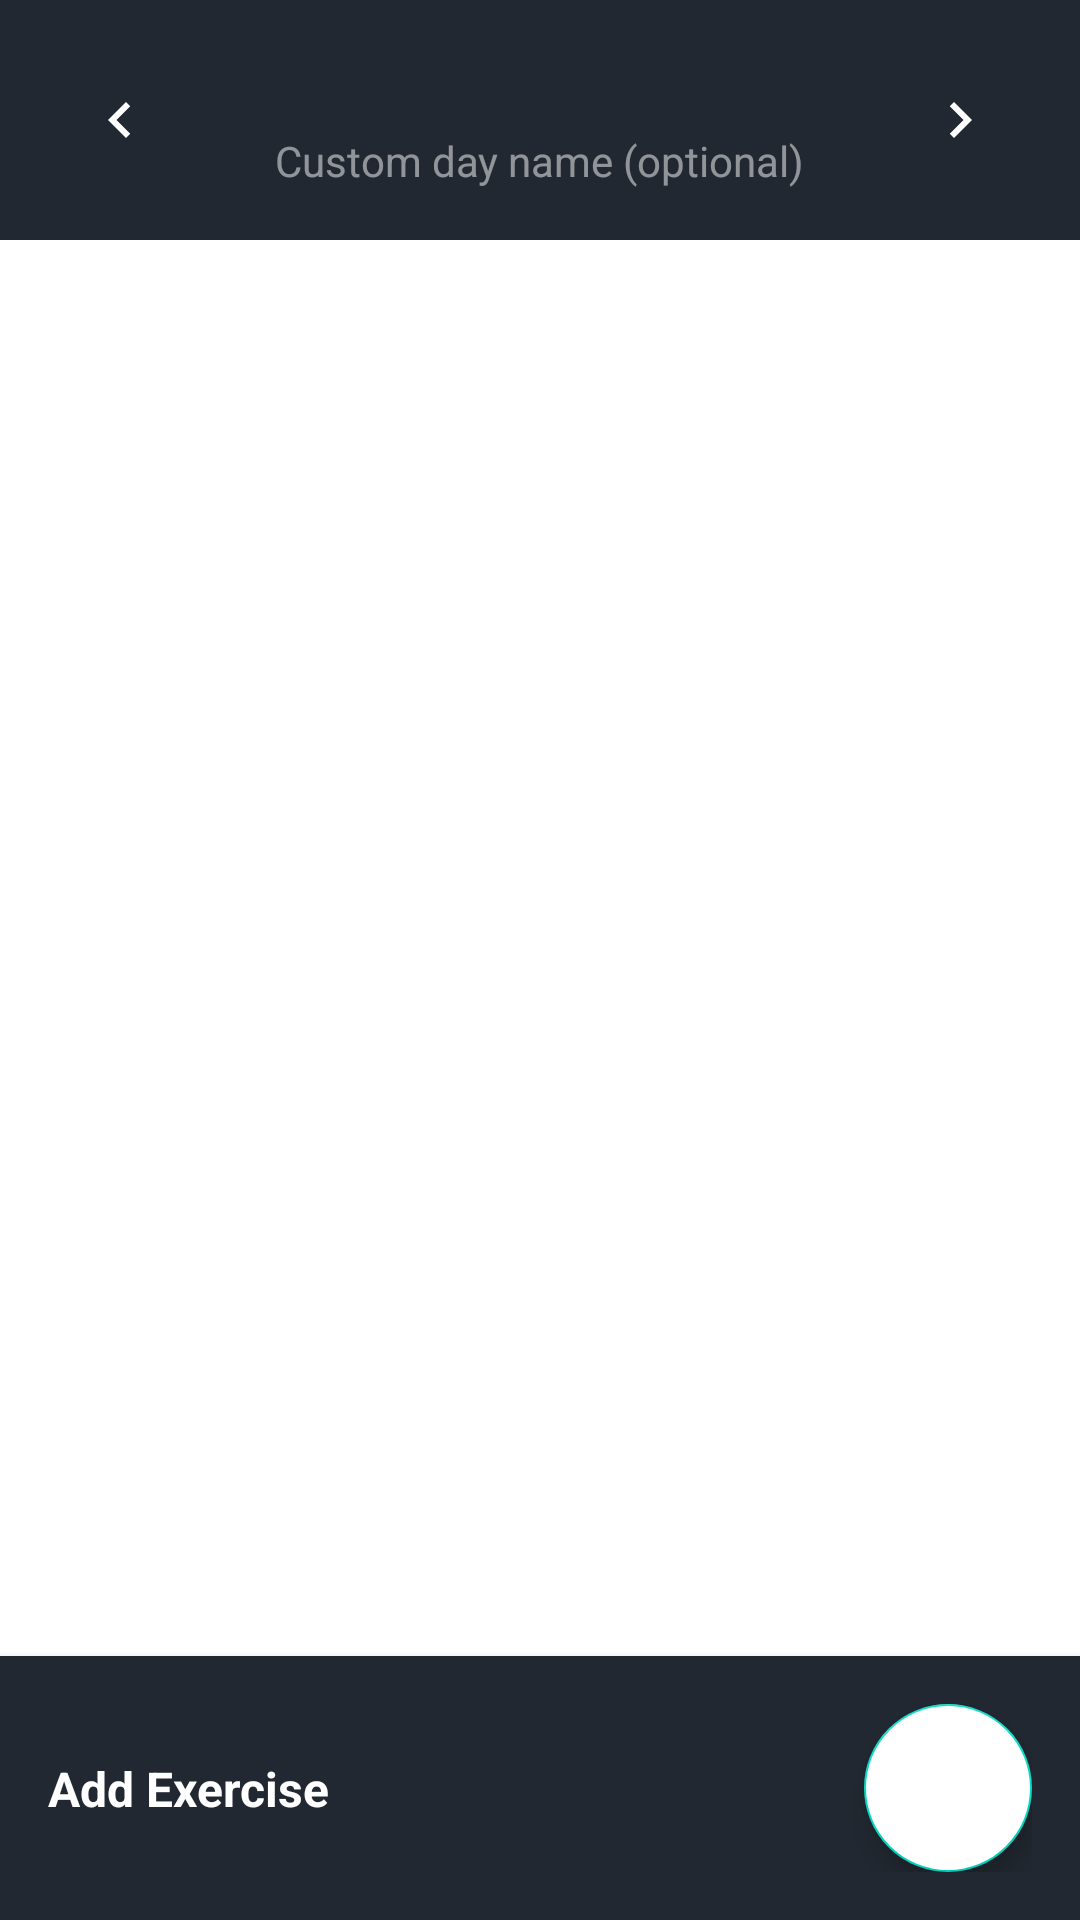

Named icons in this screenshot (1080px×1920px) and their bounding boxes, rect(x1, y1, x2, y2):
Next Day: rect(950, 102, 972, 138)
Previous Day: rect(108, 102, 130, 138)
